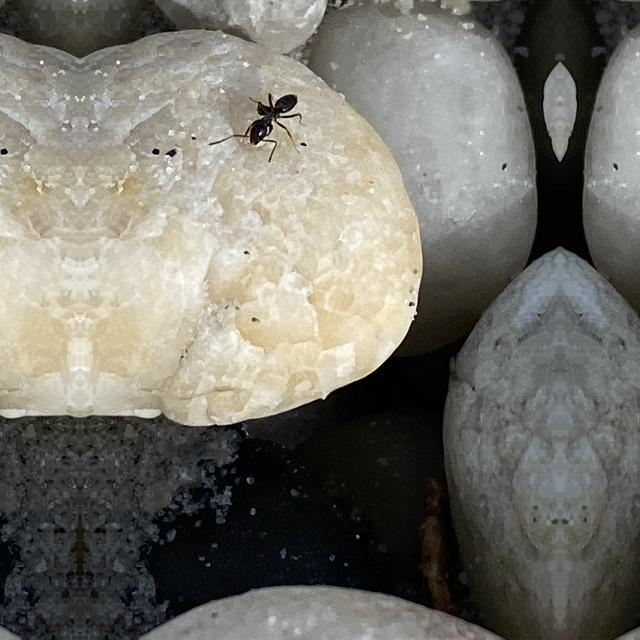Tapinoma: (233, 80, 305, 162)
